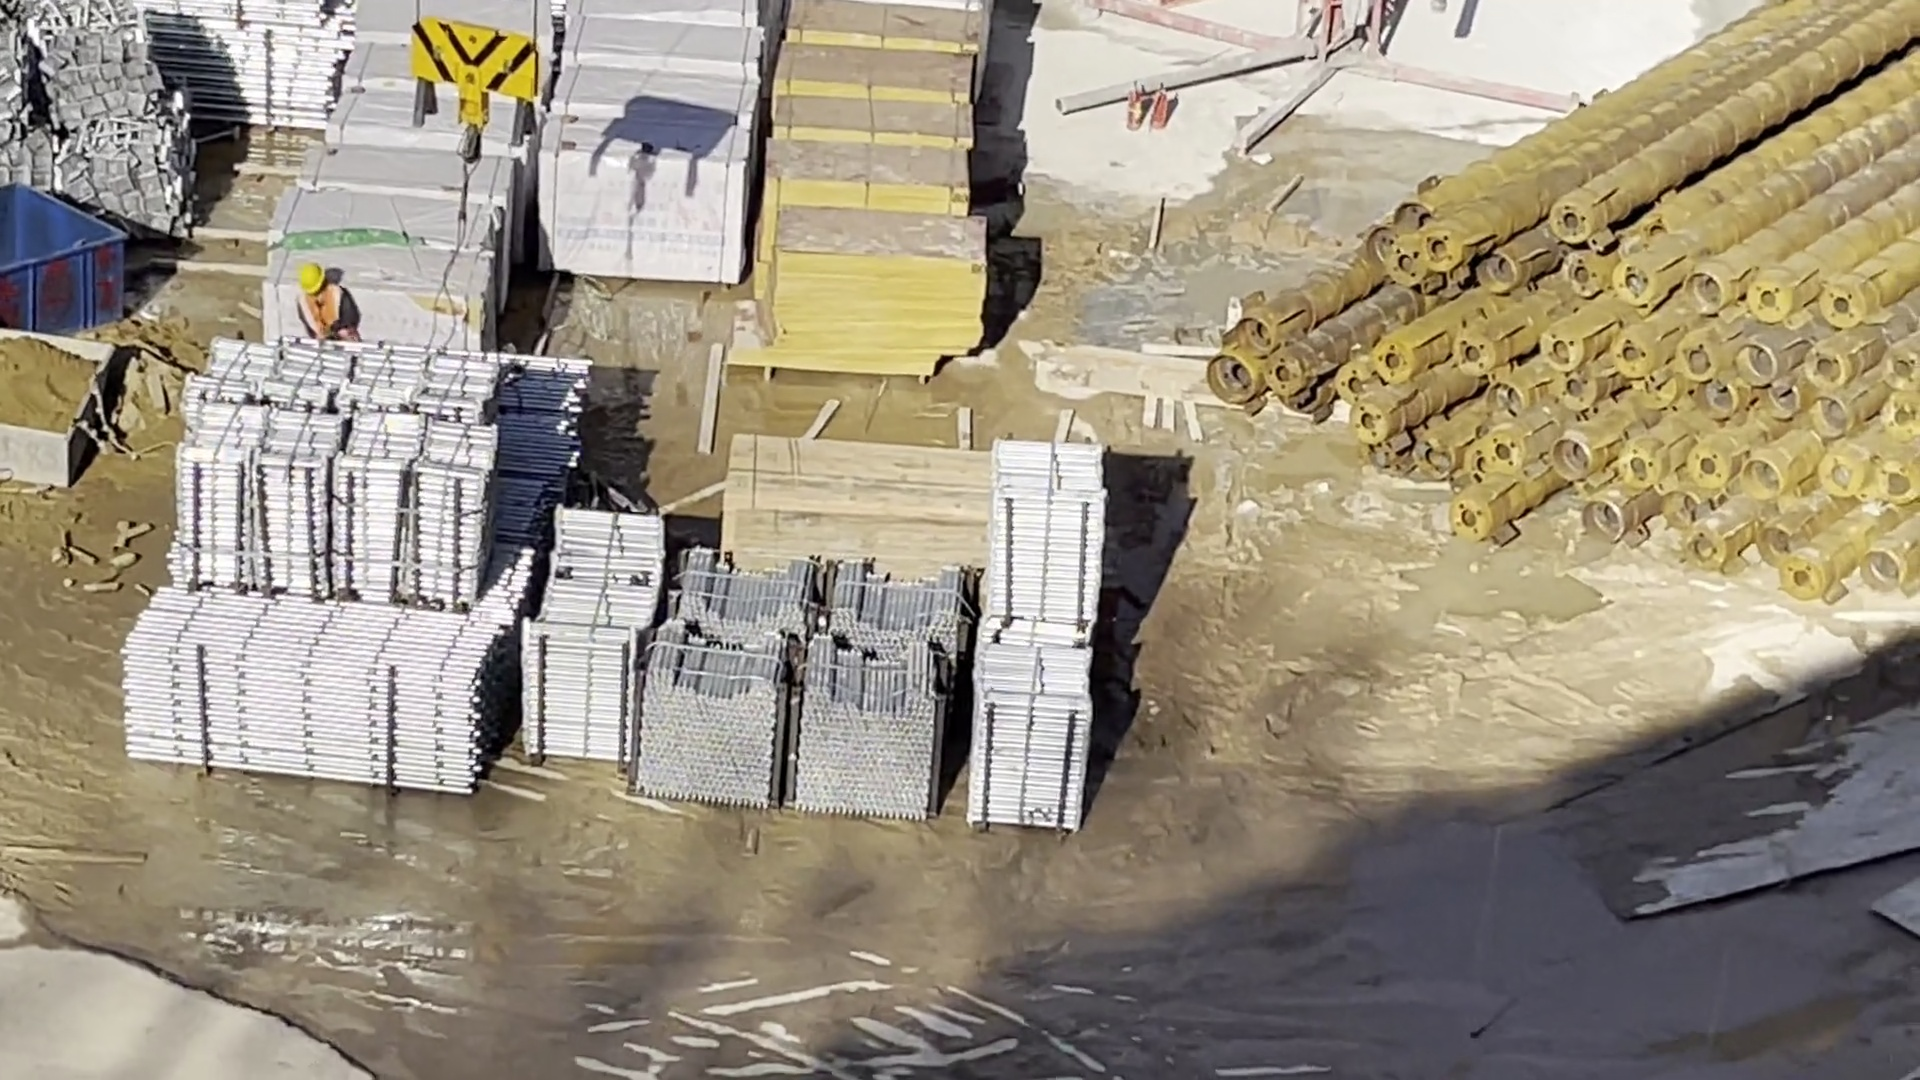helmet: (291, 262, 330, 295)
hook: (396, 9, 571, 164)
hopper: (1, 171, 137, 331), (6, 328, 141, 489)
person: (280, 261, 362, 351)
scaffold: (163, 336, 620, 773), (658, 535, 960, 829), (966, 429, 1102, 830), (140, 1, 315, 127)
vest: (277, 294, 351, 332)
